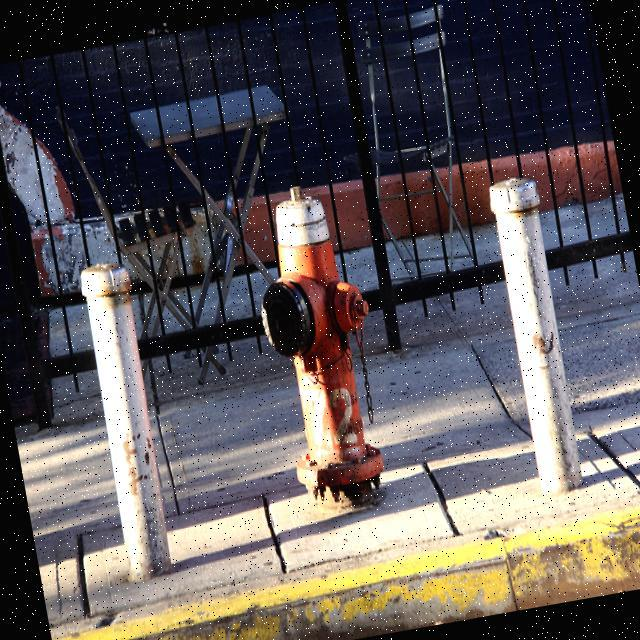fire_hydrant: (240, 175, 400, 520)
